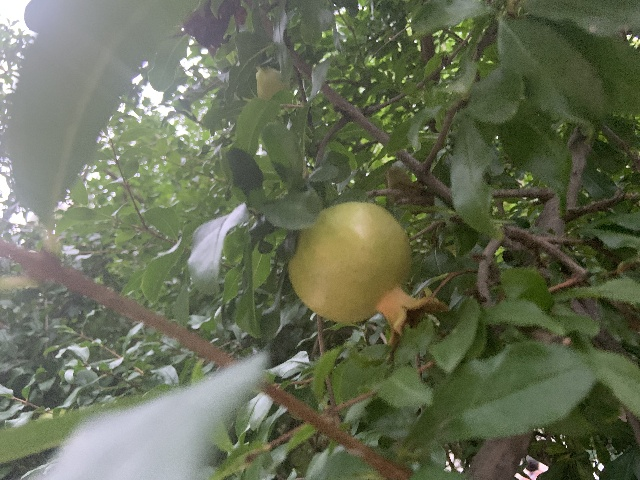mid-growth: (287, 201, 449, 343)
